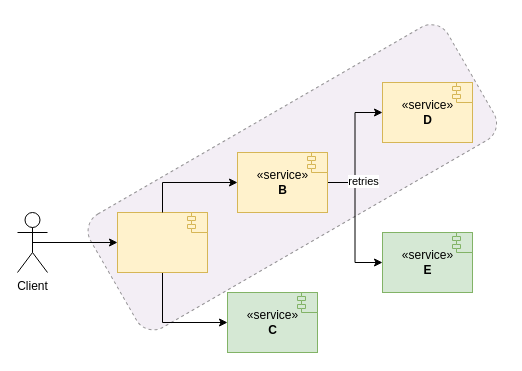
The diagram is 522 pixels wide and 371 high, and some of its shapes have lost their labels. The box of each missing label's shape, as (x1, y1, x2, y2) in pixels:
service overload: (80, 16, 504, 337)
«service» A: (116, 212, 208, 272)
